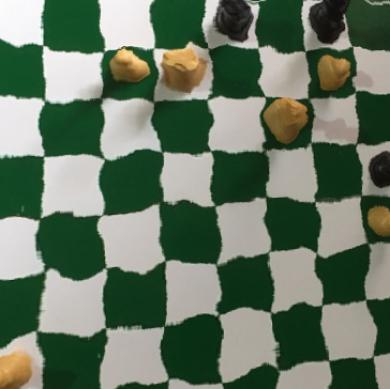black-king: (304, 0, 356, 45)
black-pawn: (363, 151, 390, 190)
black-rook: (207, 0, 257, 46)
white-king: (264, 92, 308, 142)
white-pawn: (311, 54, 354, 95), (0, 337, 33, 389), (105, 49, 149, 87), (365, 197, 390, 241)
white-rook: (156, 46, 207, 94)
